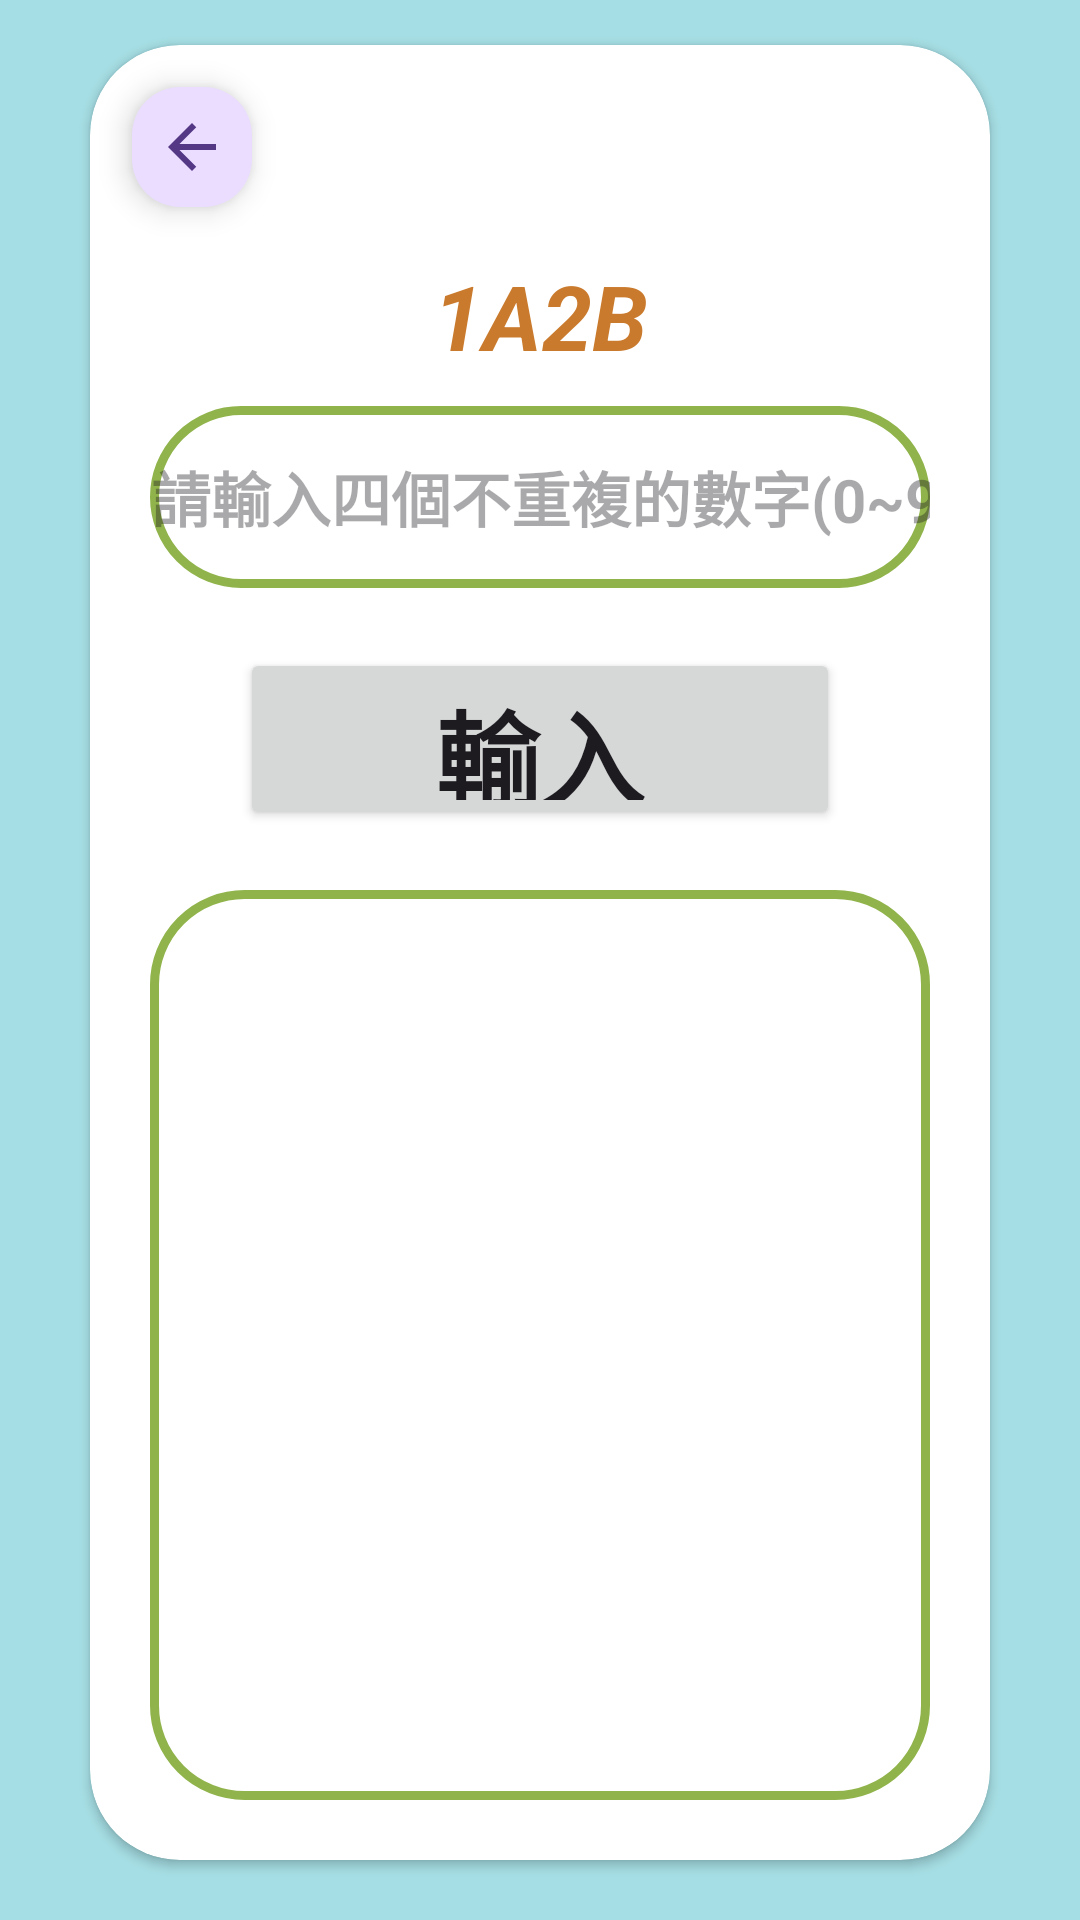

Where icons sit on this 1080×1920 app screen, as bbox=[x1, y1, x2, y2]:
back: bbox=[130, 87, 252, 208]
